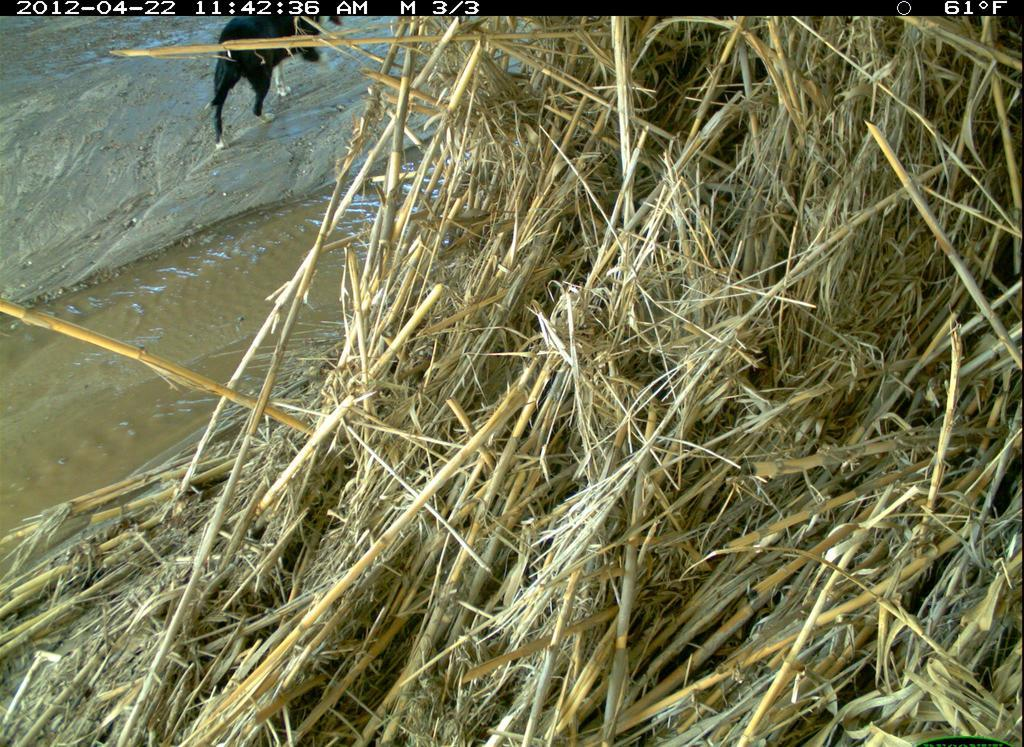dog: (159, 9, 353, 159)
